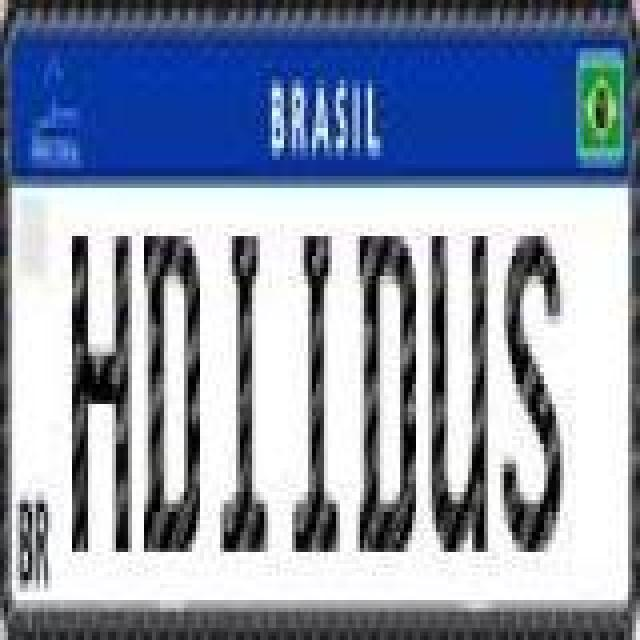D: (140, 224, 204, 560), (356, 230, 420, 554)
H: (72, 230, 136, 554)
I: (222, 230, 274, 554), (290, 230, 342, 554)
S: (500, 224, 564, 560)
U: (424, 230, 488, 554)
